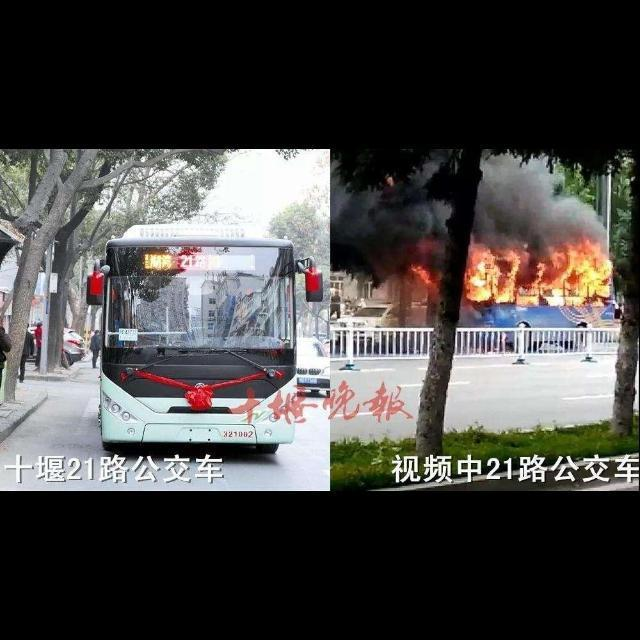Fire: (466, 245, 614, 305), (408, 264, 432, 286)
Smoke: (330, 149, 608, 245)
